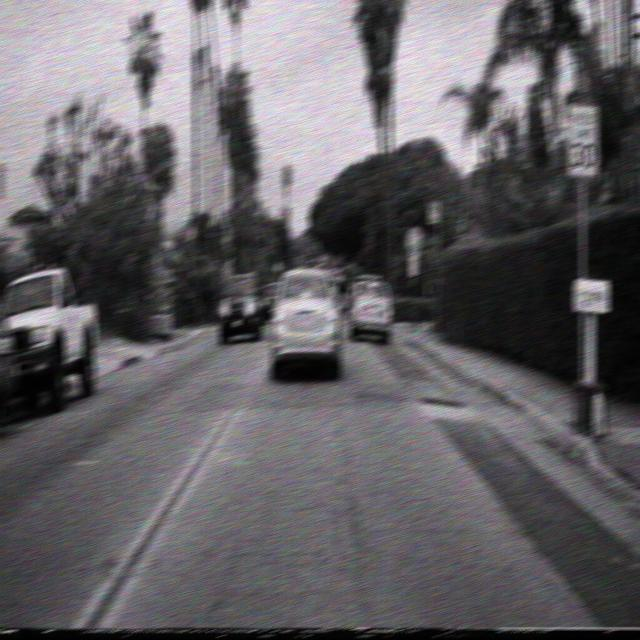stop_sign: (406, 225, 423, 252)
